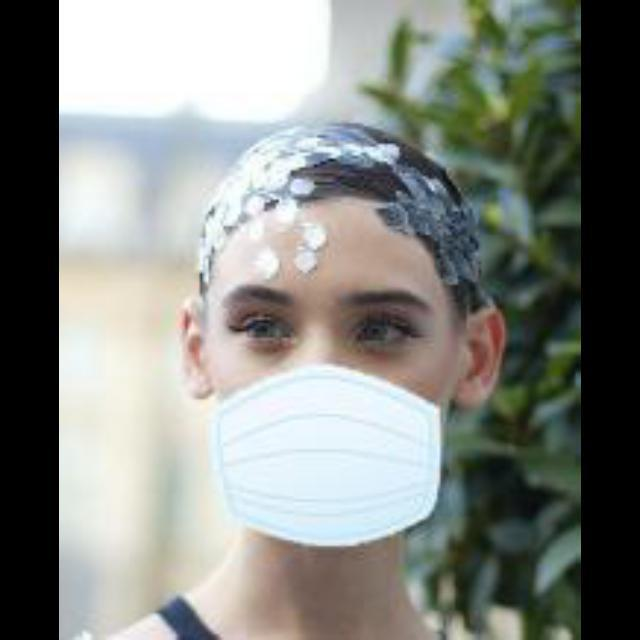suspicion: (151, 179, 515, 545)
